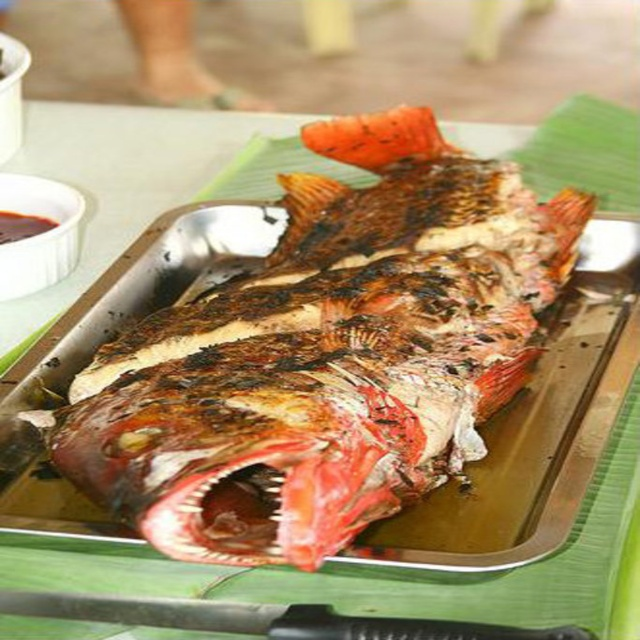Fish: (0, 188, 607, 569)
